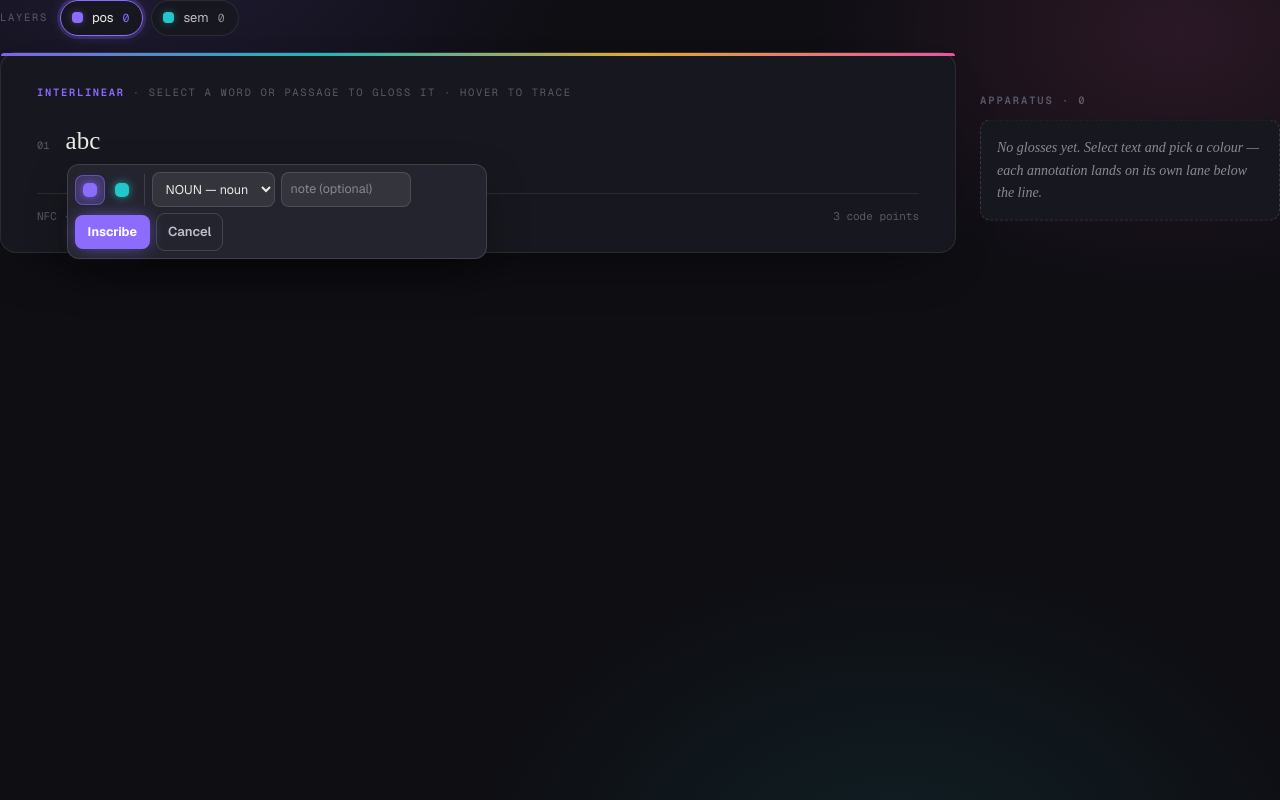
Scenario: Annotator interactions › cancels the toolbar without creating anything
The width and height of the screenshot is (1280, 800).
Expected: the dialog is shown, [67,164,487,259]
Click the button "Cancel": click(190, 232) [156,213,223,251]
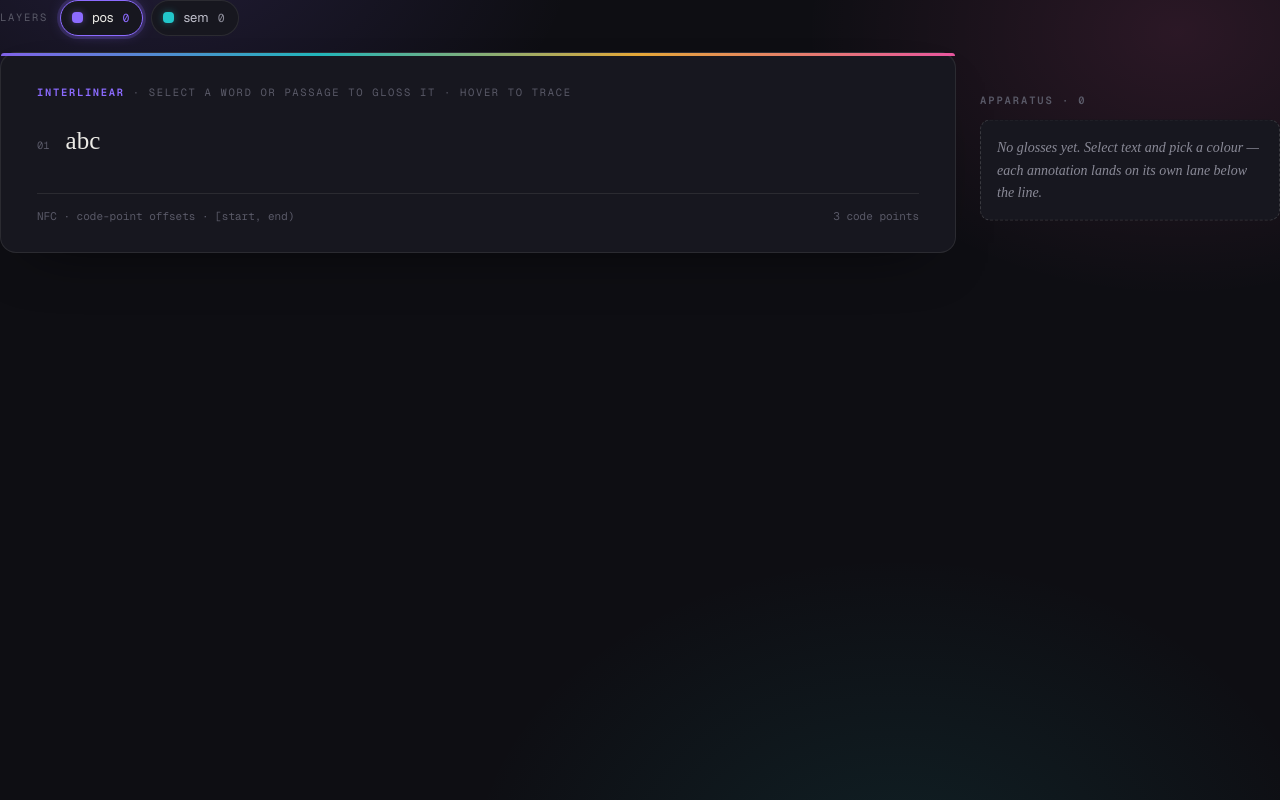
Result: the dialog is gone
